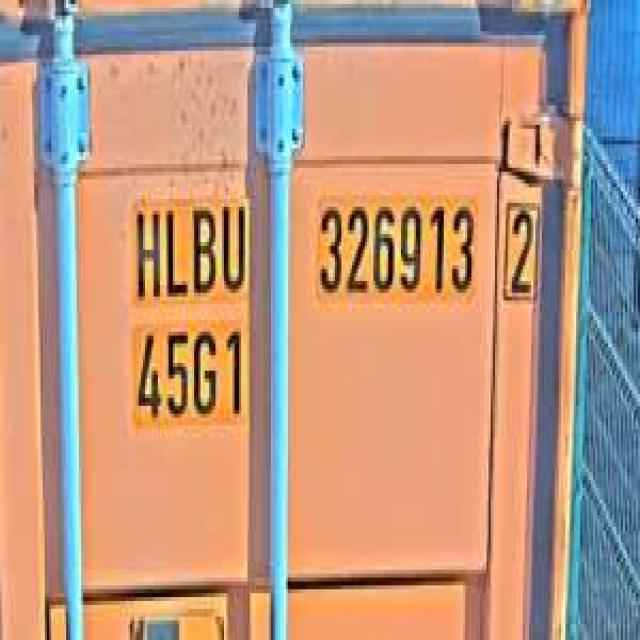dv: (499, 184, 544, 308)
owner: (128, 192, 252, 304)
serial: (309, 192, 478, 308)
size: (126, 320, 249, 429)
